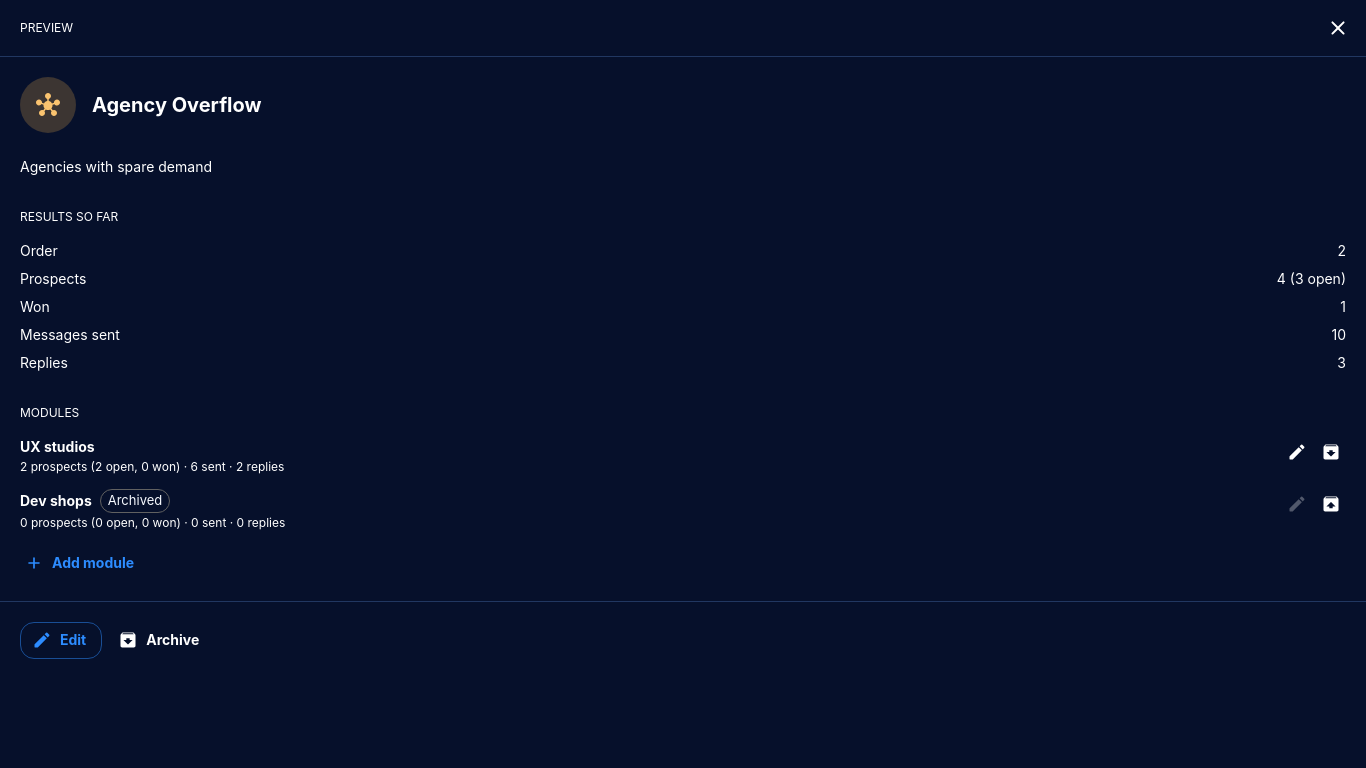
Test: RoutePreviewPanel › opens the forms for editing the route, adding a module and editing one
Click the button "Edit". click: x=61, y=640
box: [20,622,102,659]
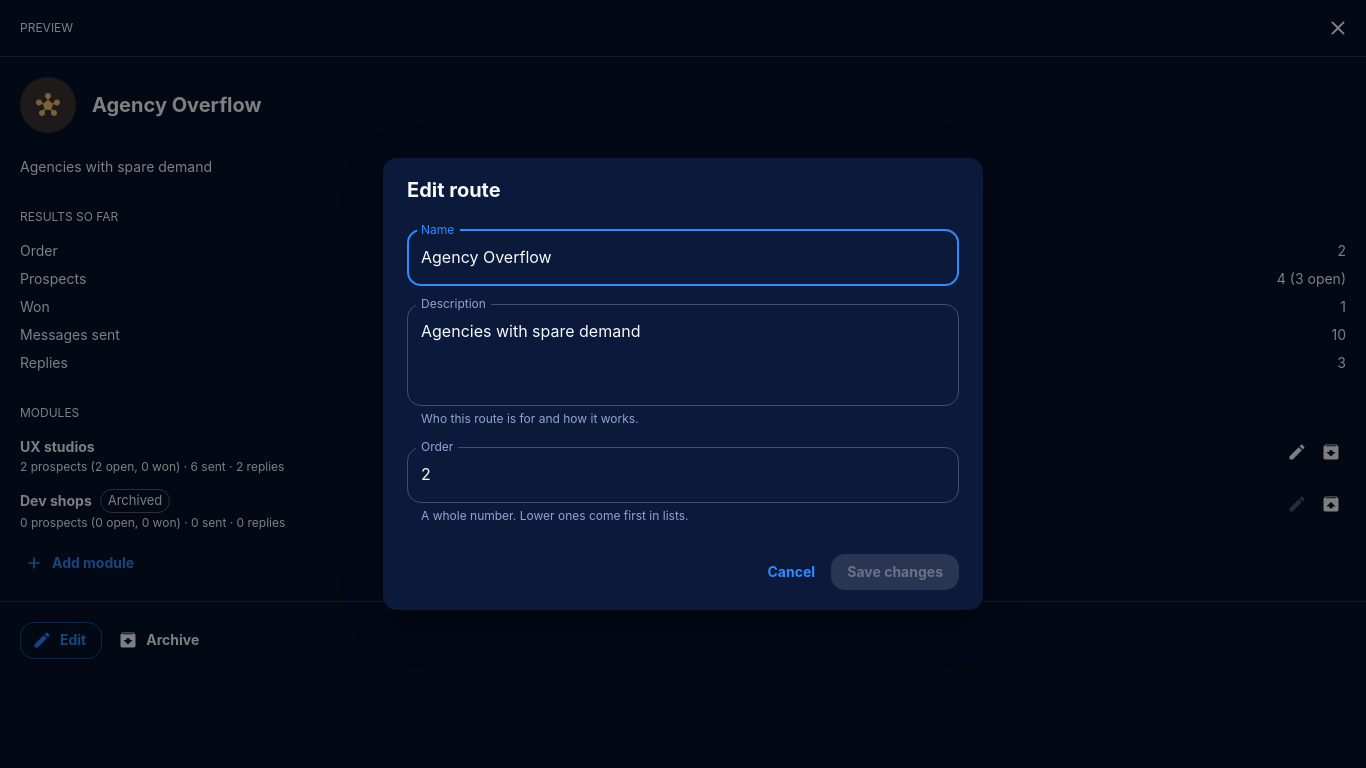
Check: the heading "Edit route" is shown, box [407,178,501,202]
Click the button "Cancel". click: x=791, y=572
box: [759,554,823,590]
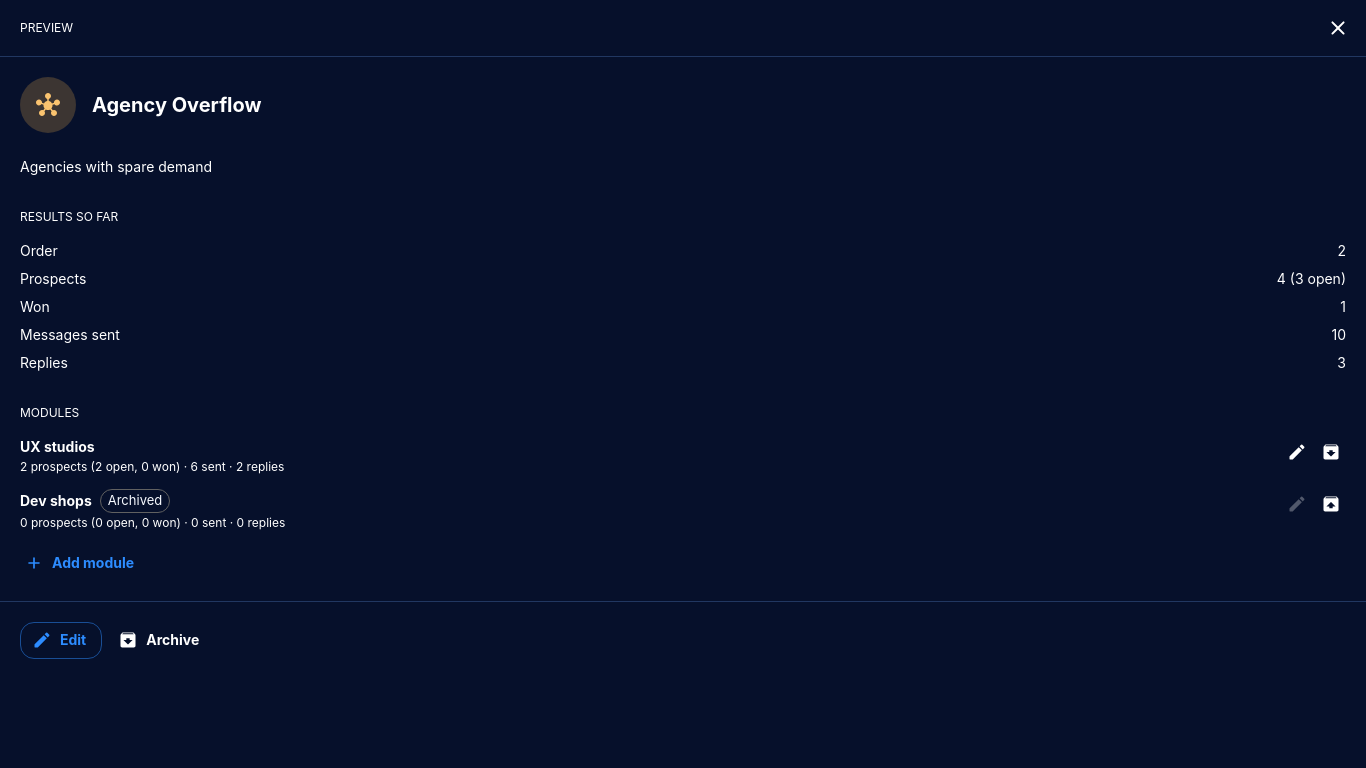
Click the button "Add module". click: x=81, y=563
box: [20,545,142,581]
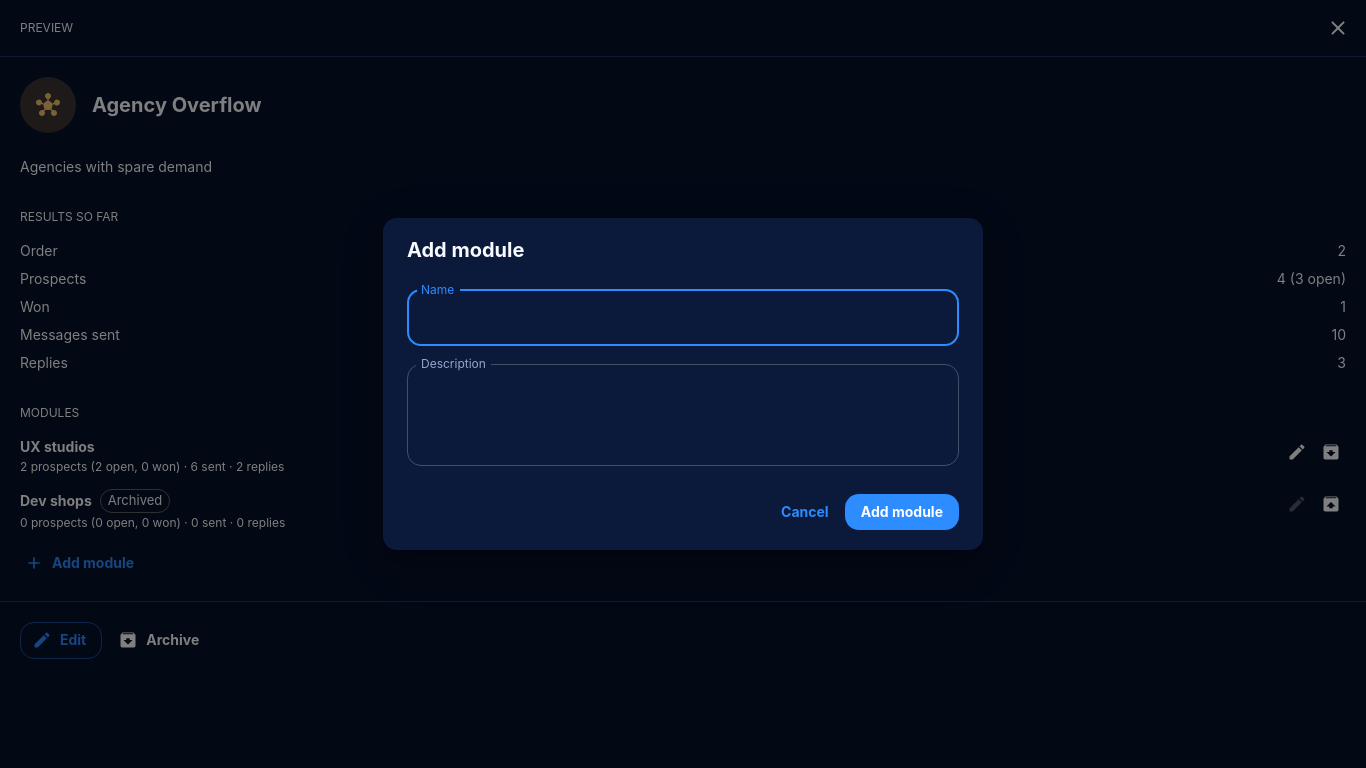
Check: the heading "Add module" is shown, box [407,238,524,262]
Click the button "Cancel". click: x=805, y=512
box: [773,494,837,530]
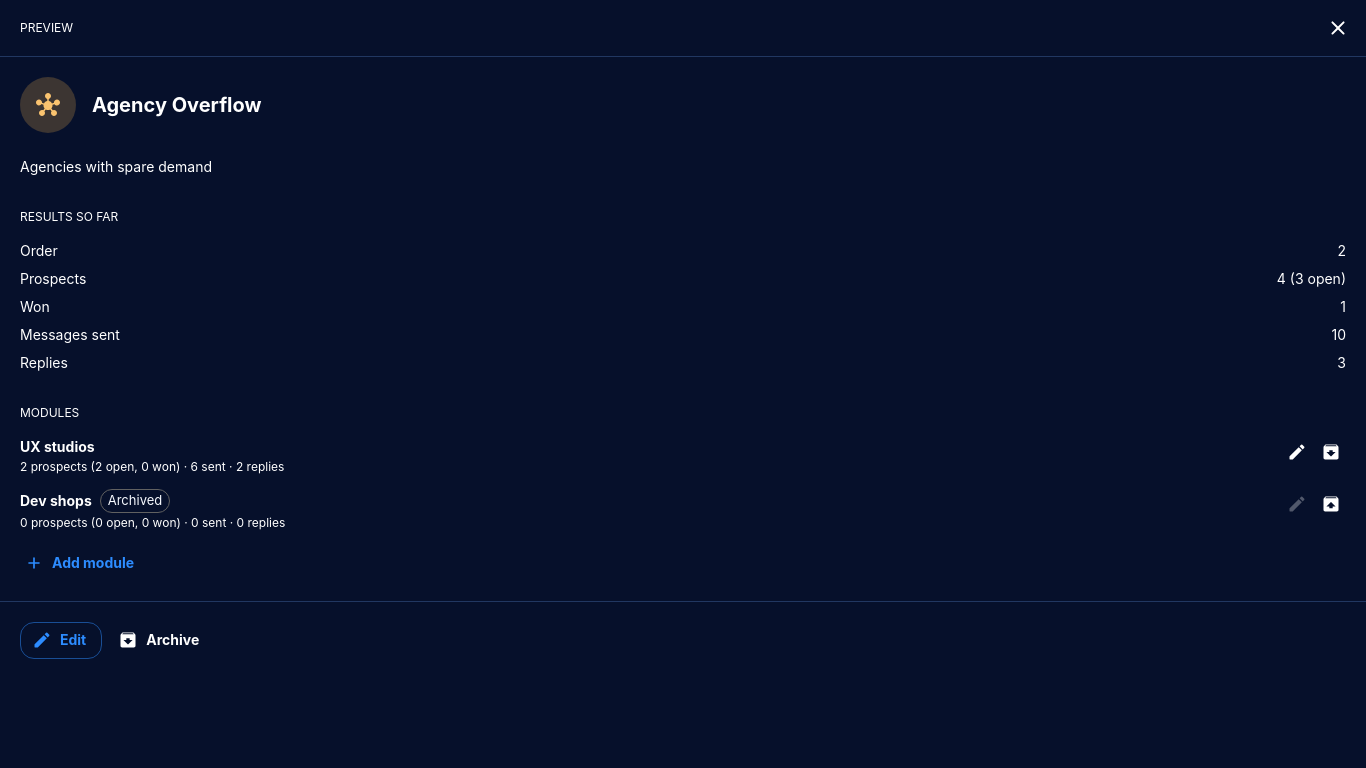
Click the button named "Edit UX studios". click: x=1297, y=452
box: [1282,437,1312,467]
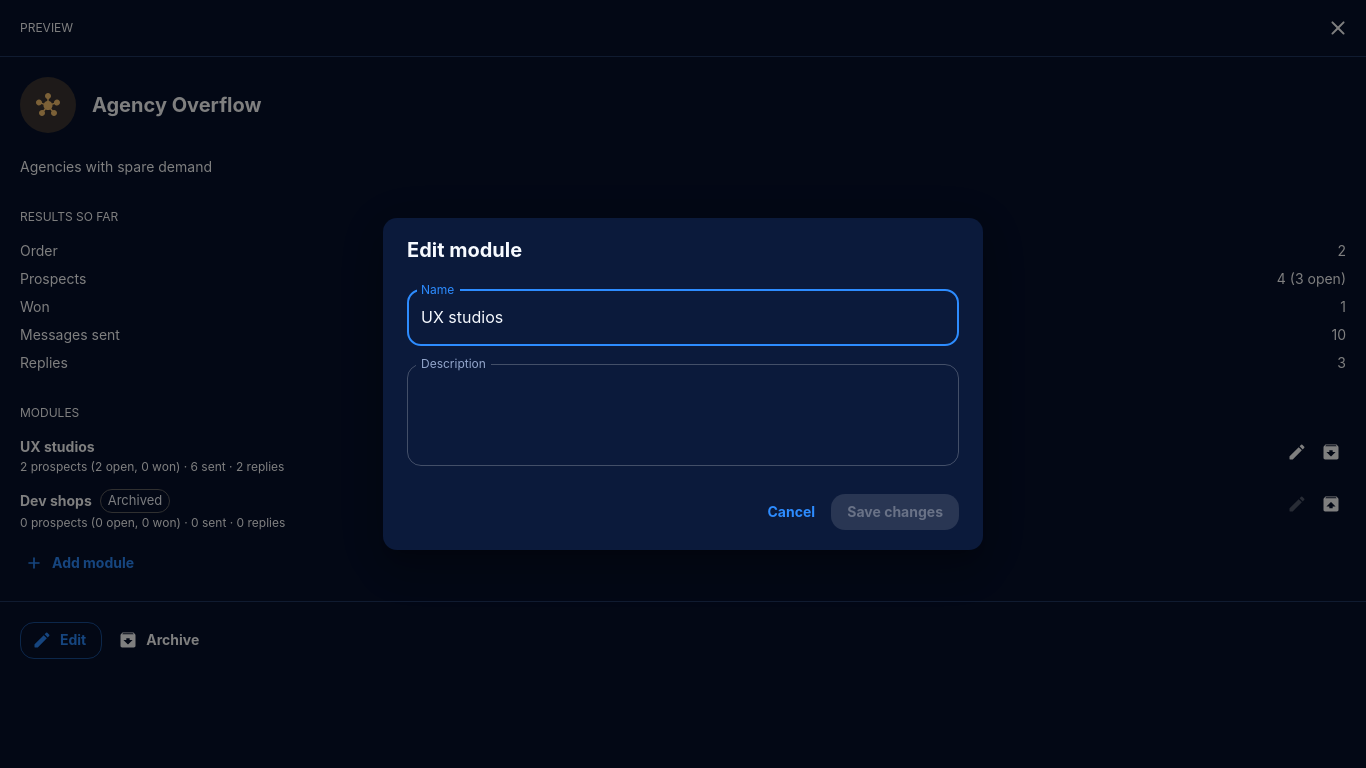
Check: the heading "Edit module" is shown, box [407,238,522,262]
